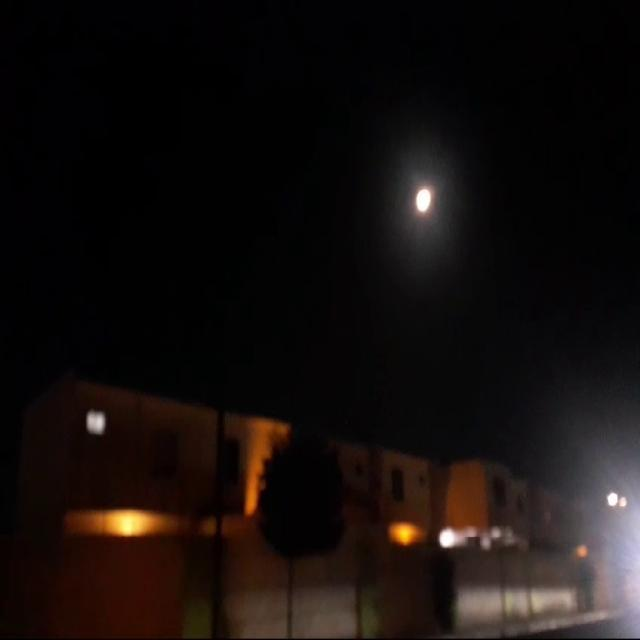moon: (415, 185, 434, 219)
